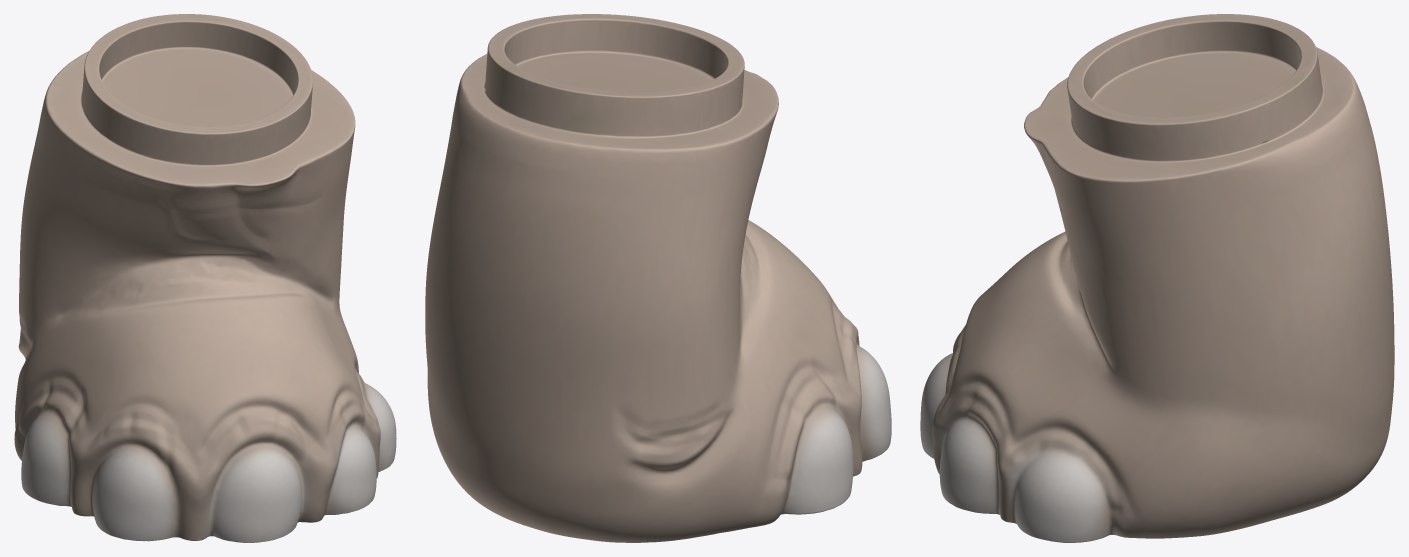
File: Patte_Elephant_rg.glb
3 renders of one model, left to right at view 1: azimuth 30°, elevation 25°; view 2: azimuth 150°, elevation 25°; view 3: azimuth 270°, elevation 25°, orthographic. The views are drawn at different scales.
Visible parts, largest first — view 1: Patte_Elephant_rg; view 2: Patte_Elephant_rg; view 3: Patte_Elephant_rg.
Boxes of the visible parts, x1,y1,x2,y2 form: Patte_Elephant_rg: [14, 14, 396, 542]; Patte_Elephant_rg: [425, 14, 891, 542]; Patte_Elephant_rg: [920, 14, 1394, 542].
Bounding box in the file's own units: 2.04 × 2.26 × 2.33.
